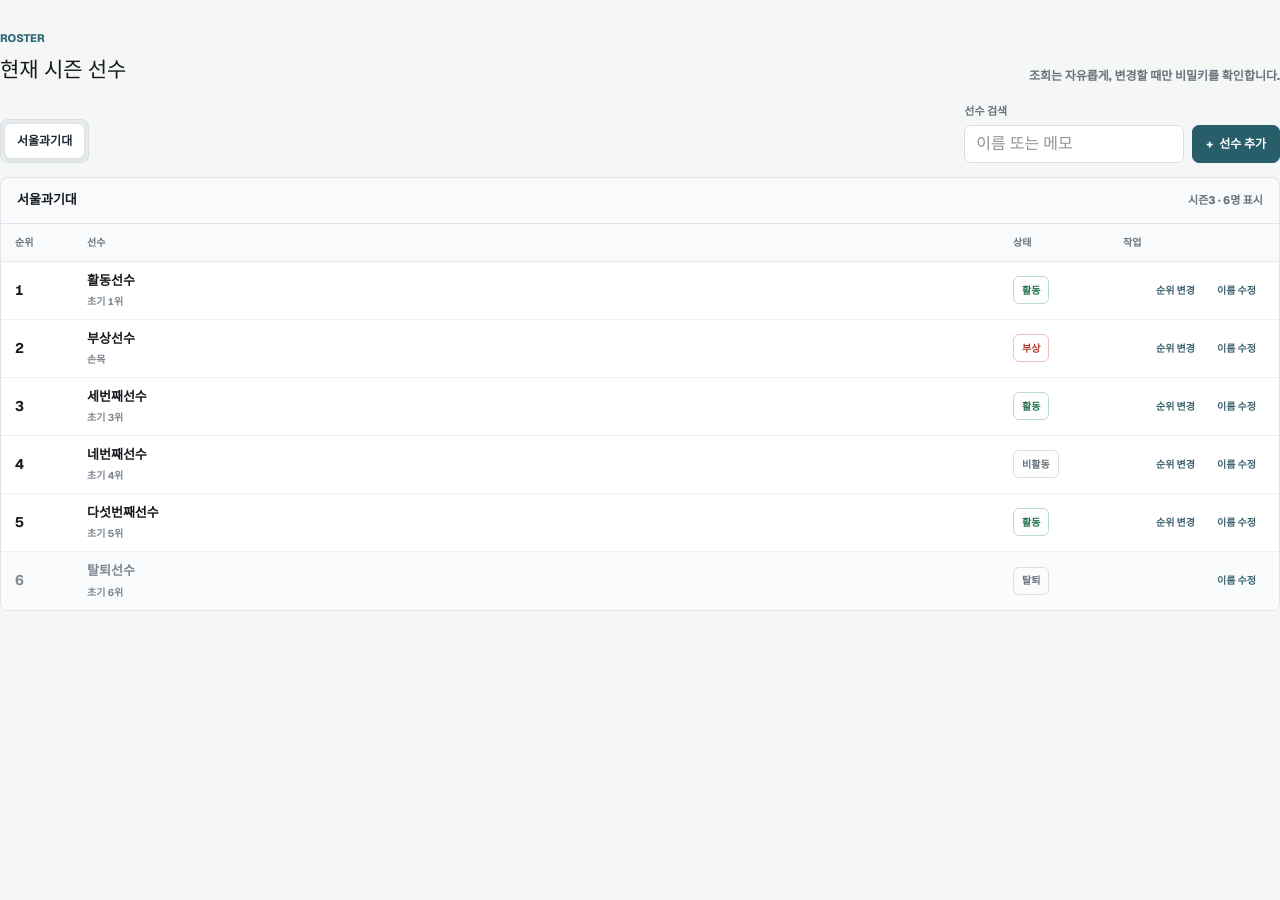
Scenario: AdminPlayerManager › submits a valid rank adjustment and does not retain the secret
Click the button with aria-label "다섯번째선수 순위 변경". click: [1176, 522]
box: left=1147, top=508, right=1204, bottom=536
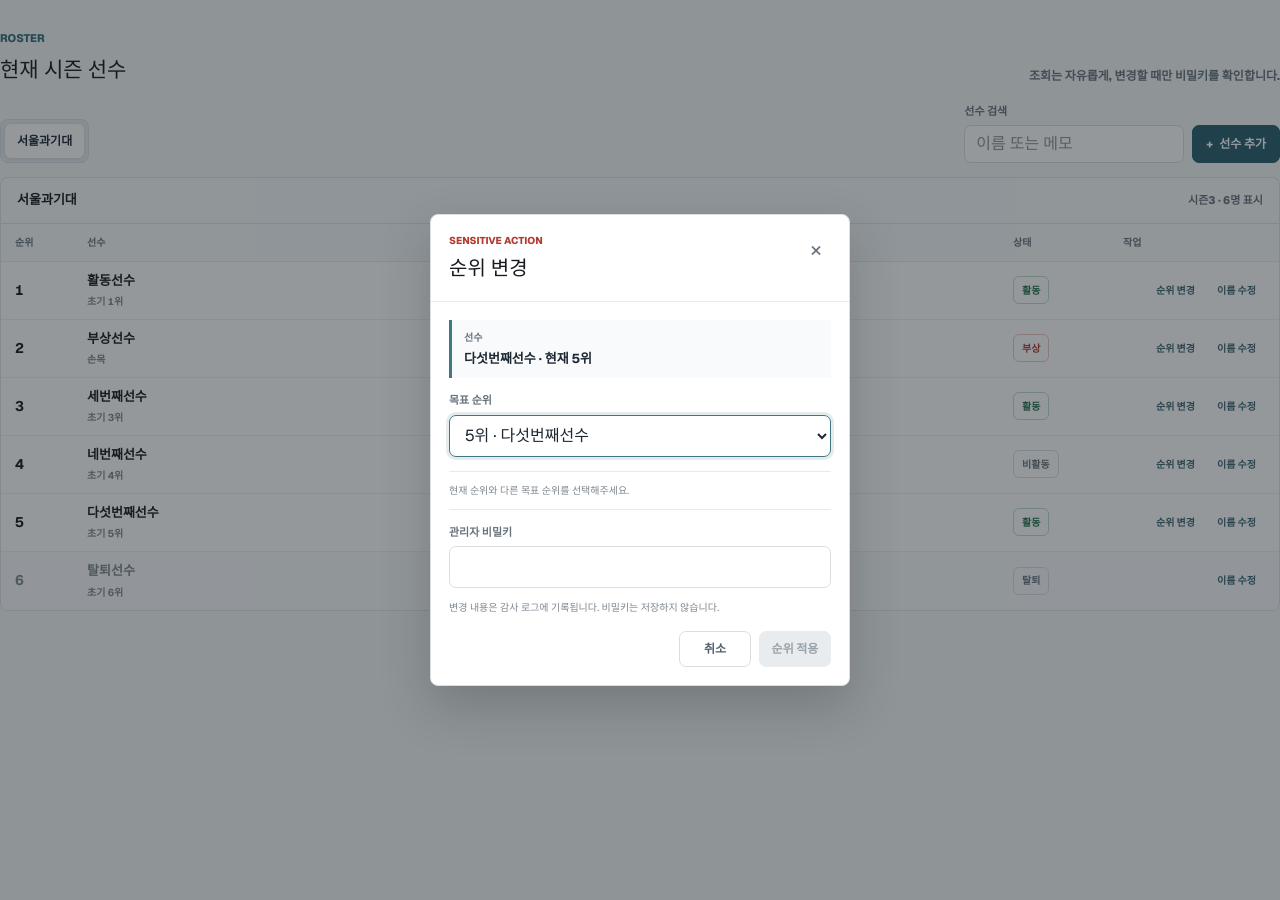
Select "2위 · 부상선수" in the dropdown labelled "목표 순위". click: [640, 436]
box: left=449, top=415, right=831, bottom=457
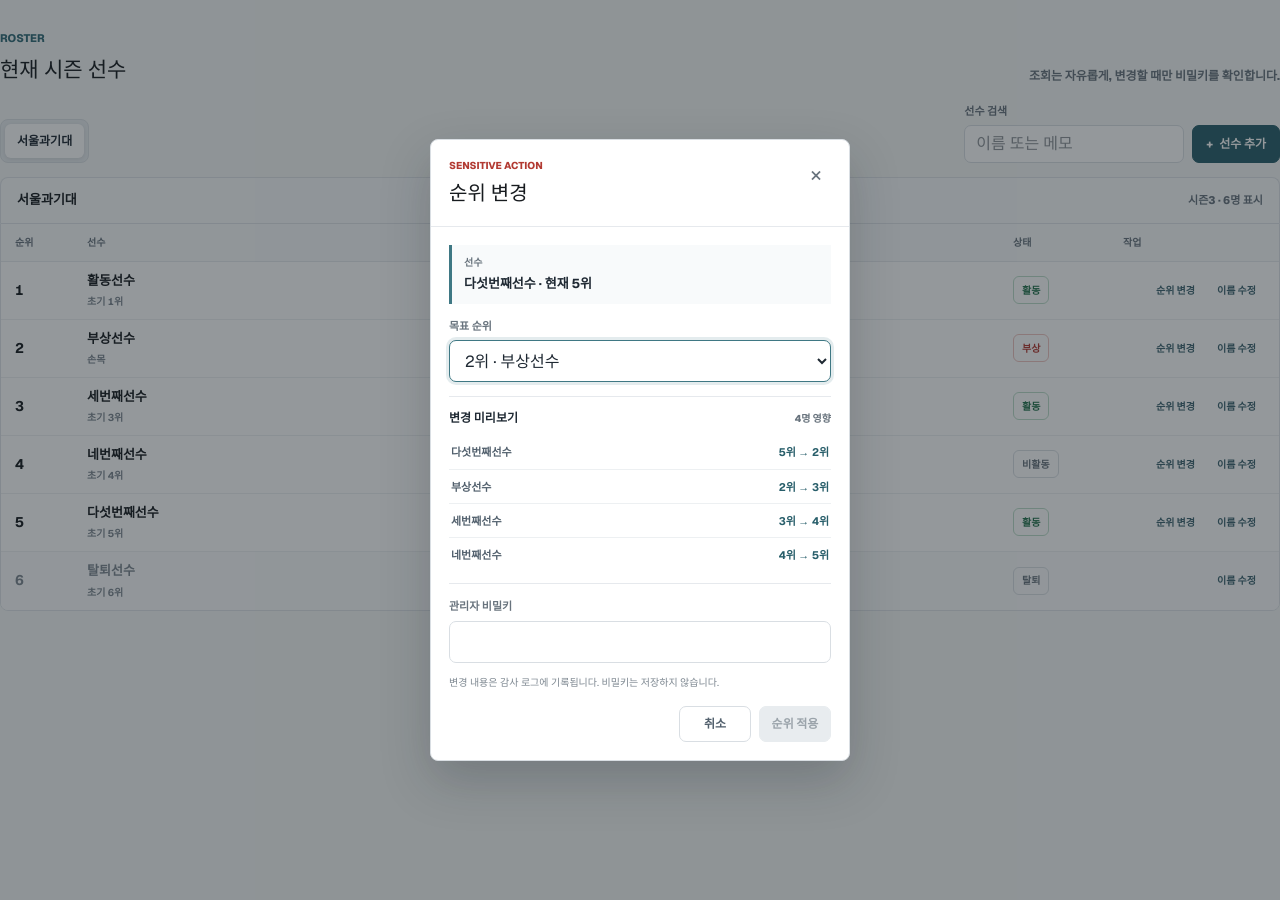
Type "admin-secret" into the password field labelled "관리자 비밀키". click: [640, 642]
box: left=449, top=621, right=831, bottom=663
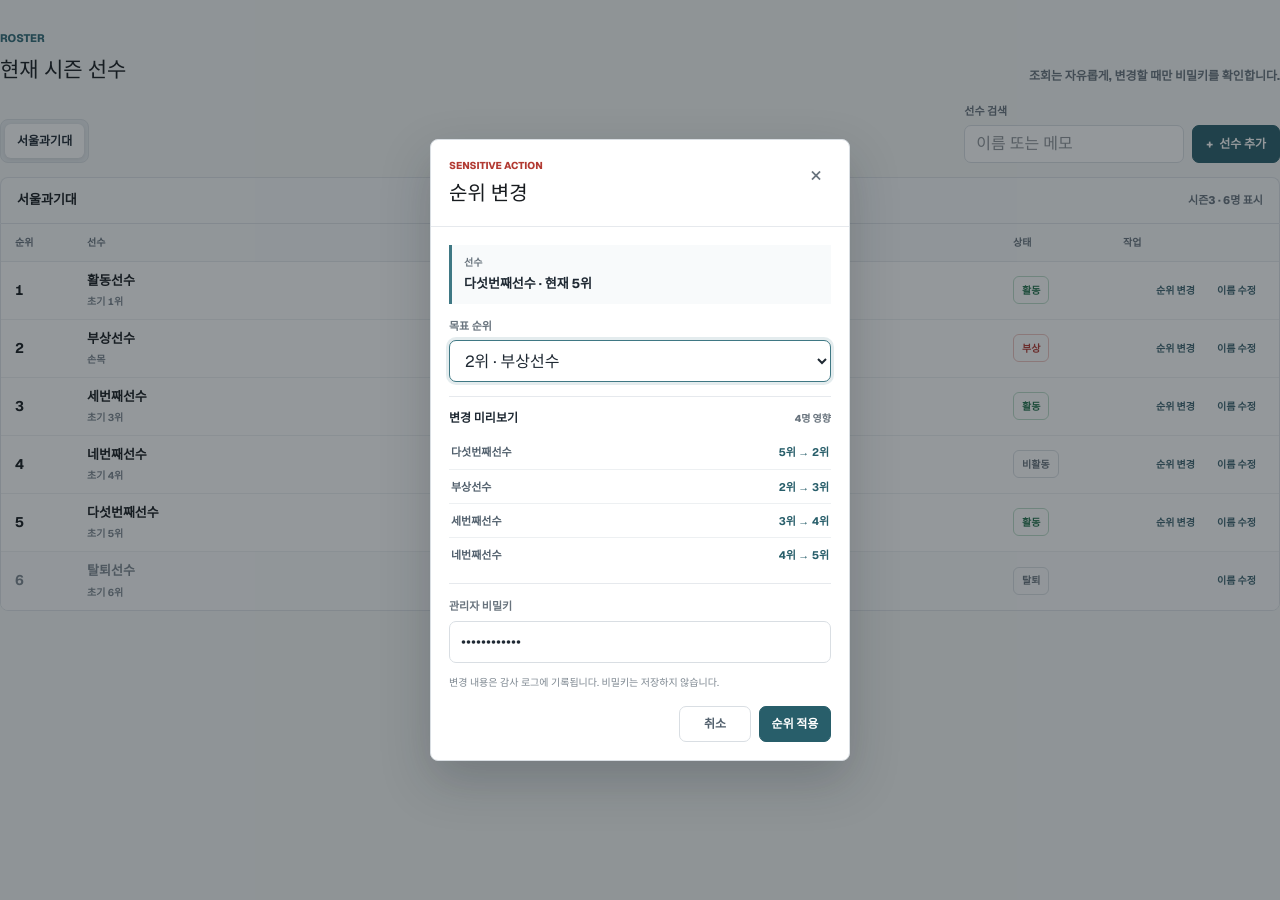
Click the button "순위 적용". click: [795, 724]
box: left=759, top=706, right=831, bottom=742
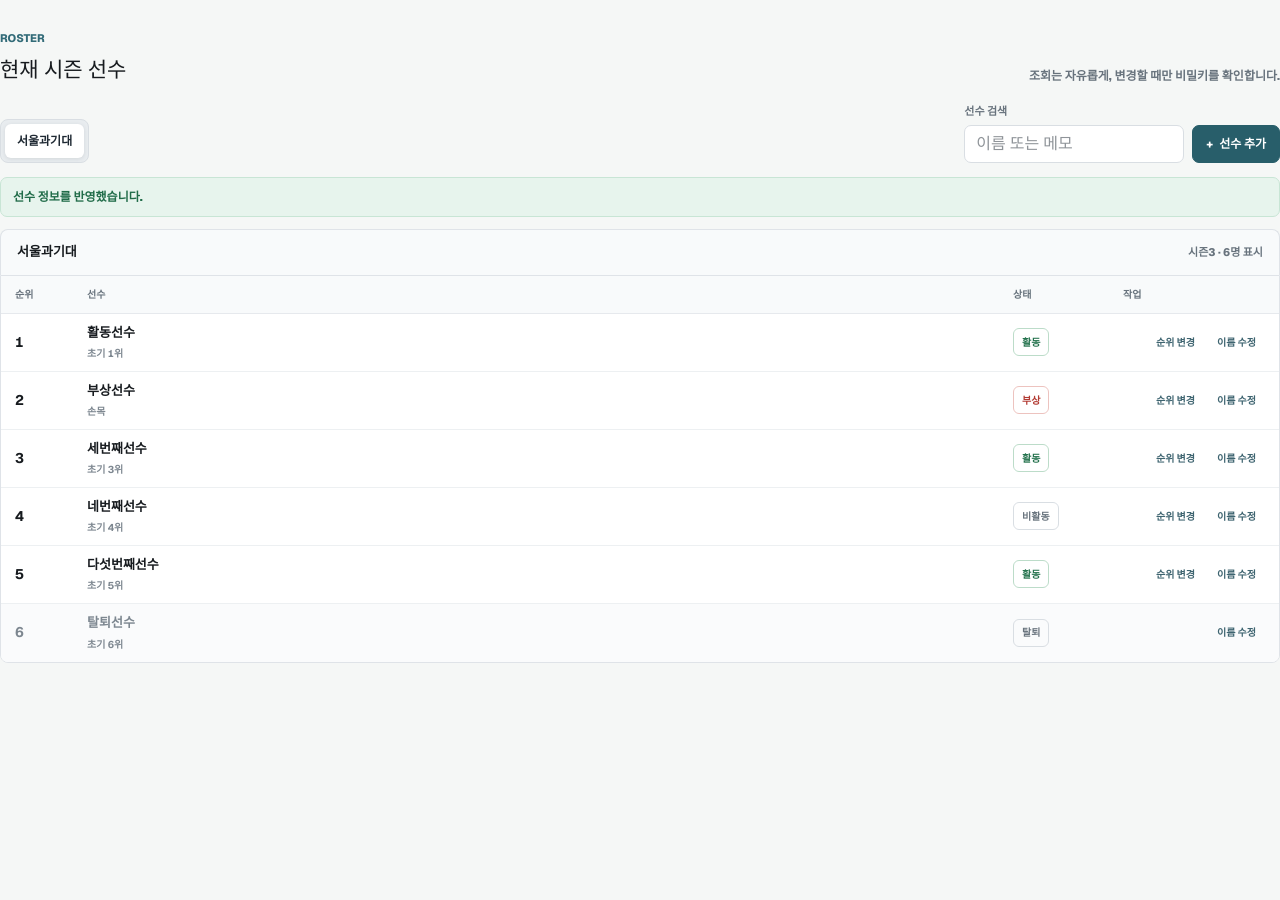
Now the text labelled "관리자 비밀키" is gone
